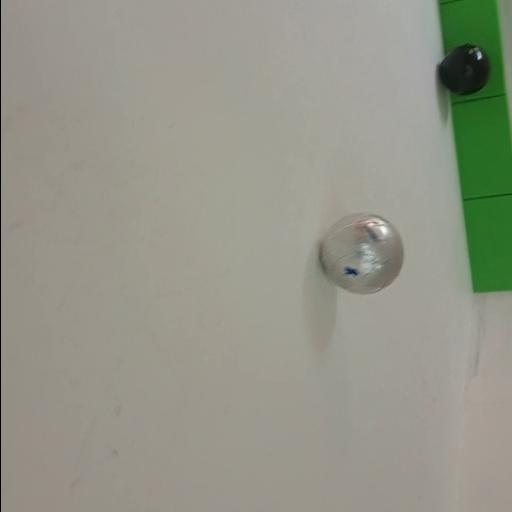alive: (318, 212, 404, 294)
dead: (438, 44, 490, 96)
